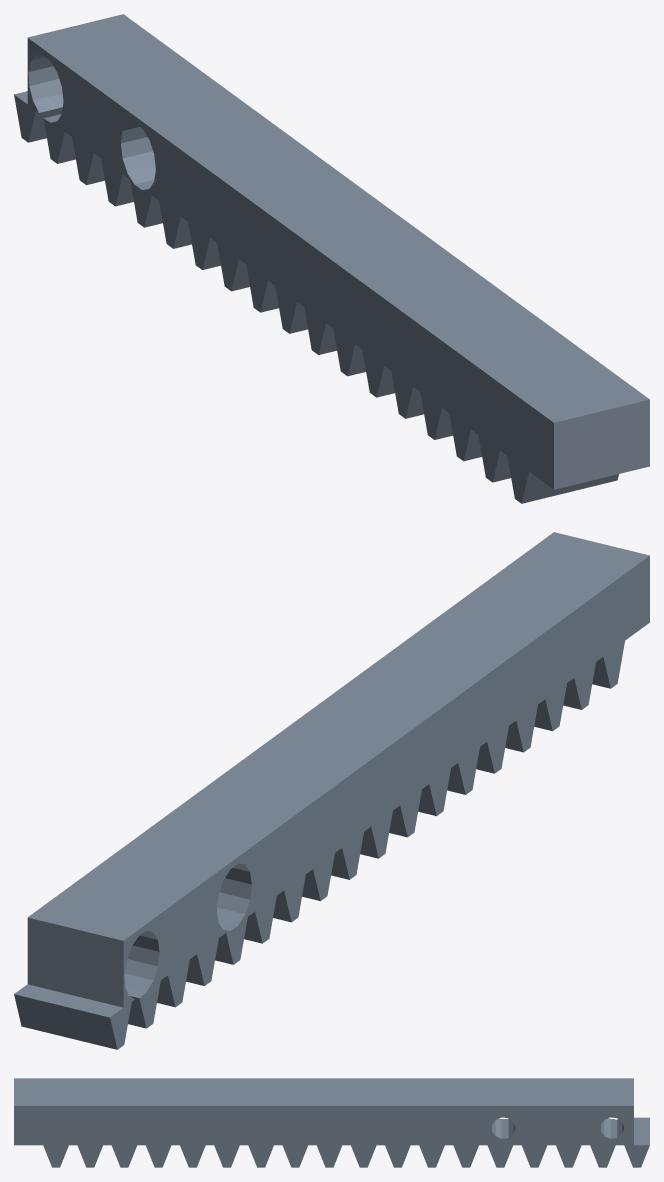
3 views of the same model, one above another, from view 1: azimuth 30°, elevation 25°; view 2: azimuth 150°, elevation 25°; view 3: azimuth 270°, elevation 25° (orthographic). The views are drawn at different scales.
Parts seen in each view (by area): view 1: part_005; view 2: part_005; view 3: part_005.
Boxes of the visible parts, x1,y1,x2,y2 form: part_005: (14,14,649,503); part_005: (14,532,649,1049); part_005: (14,1078,649,1167).
Bounding box in the file's own units: 0.006 × 0.0585 × 0.00625.
